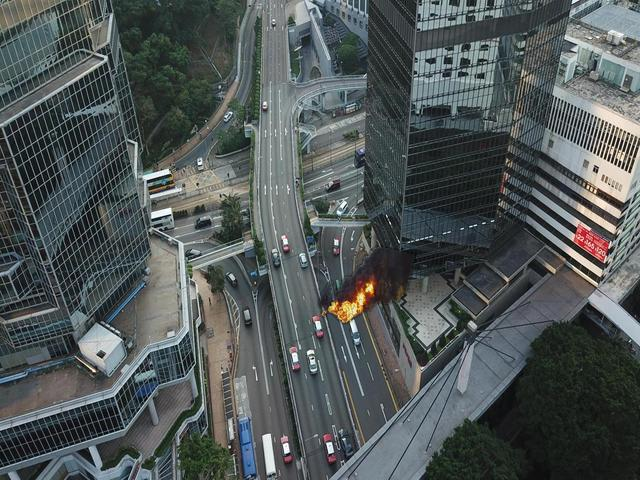fire: (318, 245, 414, 323)
